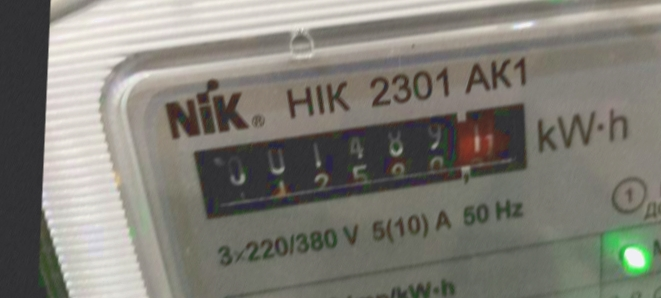0: (260, 140, 287, 177), (221, 152, 247, 188)
1: (464, 117, 485, 156), (304, 138, 326, 170)
4: (343, 130, 366, 162)
8: (383, 123, 405, 160)
9: (422, 119, 444, 152)
screen: (177, 79, 558, 246)
